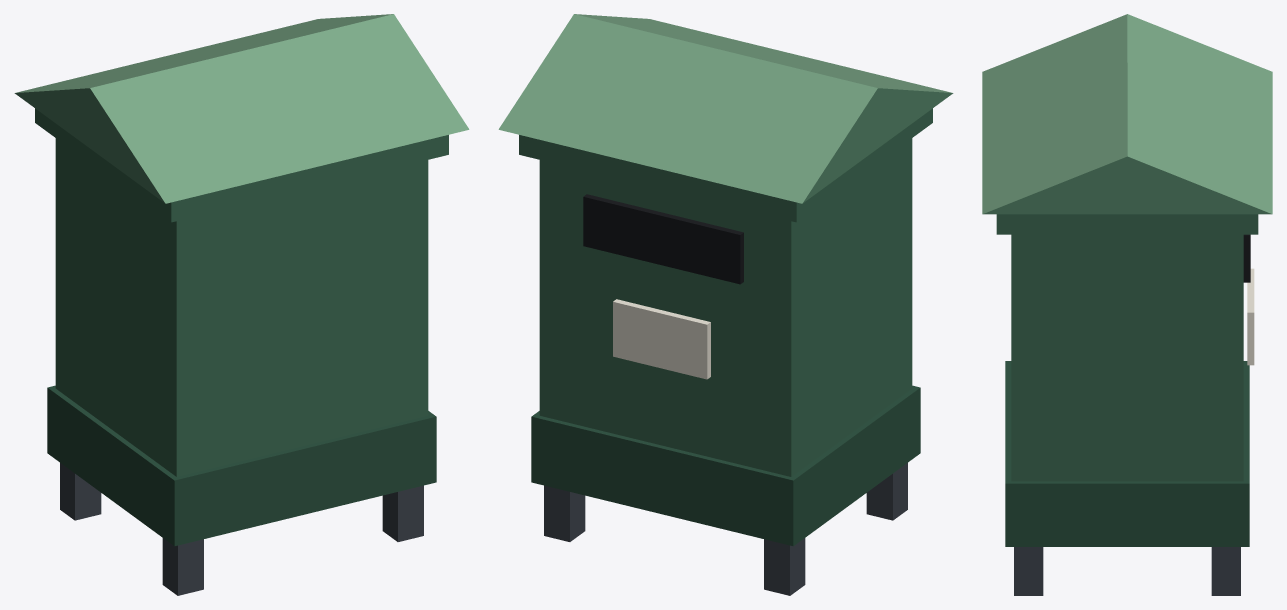
Rendered from TrashCan_Park.fbx.
3 views of the same model, side by side, from view 1: azimuth 30°, elevation 25°; view 2: azimuth 150°, elevation 25°; view 3: azimuth 270°, elevation 25° (orthographic). The views are drawn at different scales.
Parts seen in each view (by area): view 1: Body.001, Lid.001; view 2: Body.001, Lid.001, Label.001; view 3: Body.001, Lid.001, Label.001.
Part boxes in pixels (left/top/right/bottom): Body.001: left=35, top=108, right=448, bottom=595; Lid.001: left=14, top=14, right=469, bottom=203; Body.001: left=519, top=108, right=932, bottom=595; Lid.001: left=498, top=14, right=953, bottom=203; Label.001: left=613, top=299, right=710, bottom=379; Body.001: left=996, top=214, right=1258, bottom=595; Lid.001: left=982, top=14, right=1272, bottom=214; Label.001: left=1247, top=268, right=1254, bottom=365.
Size of the model in its own units: 0.783 by 1.16 by 0.675.
